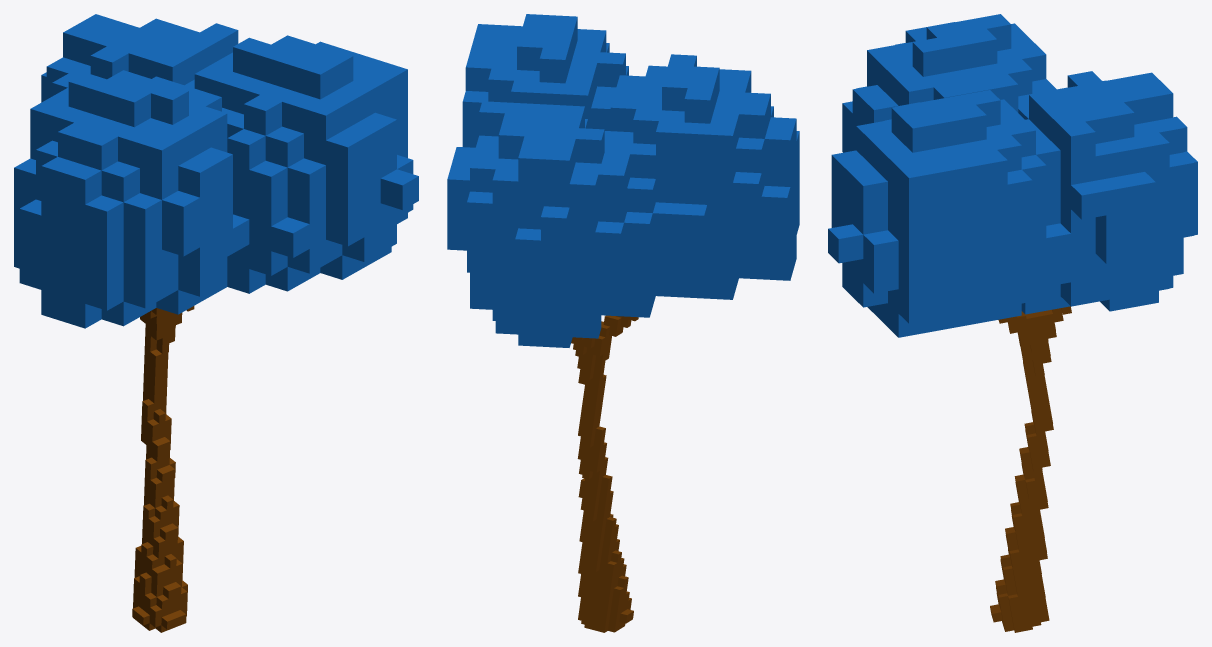
Rendered from Voxeltree_03_blue.glb.
3 renders of one model, left to right at view 1: azimuth 30°, elevation 25°; view 2: azimuth 150°, elevation 25°; view 3: azimuth 270°, elevation 25°, orthographic. The views are drawn at different scales.
Visible parts, largest first — view 1: Voxeltree_03_blue_Wood_0; view 2: Voxeltree_03_blue_Wood_0; view 3: Voxeltree_03_blue_Wood_0.
Part boxes in pixels (x1,y1,x2,y2): Voxeltree_03_blue_Wood_0: (14, 14, 418, 632); Voxeltree_03_blue_Wood_0: (447, 14, 799, 632); Voxeltree_03_blue_Wood_0: (828, 14, 1197, 632).
Size of the model in its own units: 6.49 by 9.95 by 5.93.
